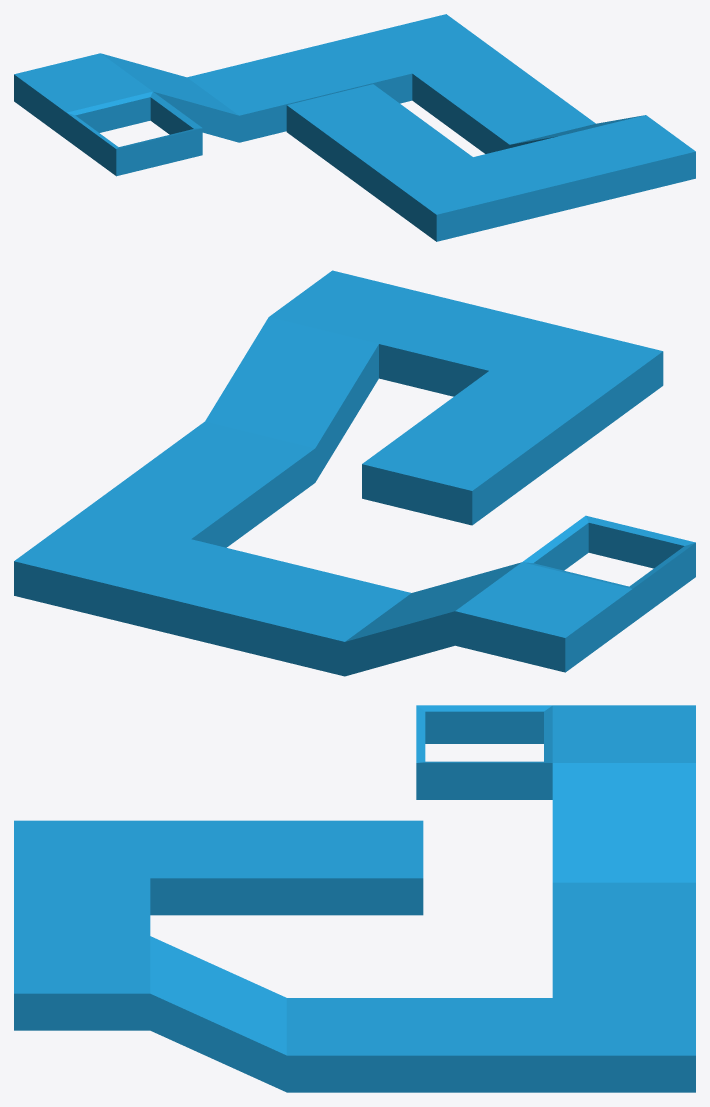
The model's file is model_map_05.fbx.
The picture shows the model from 3 angles, top to bottom: view 1: azimuth 30°, elevation 25°; view 2: azimuth 150°, elevation 25°; view 3: azimuth 270°, elevation 25°; orthographic projection. The views are drawn at different scales.
Visible parts, largest first — view 1: col, lvl; view 2: col, lvl; view 3: col, lvl.
Part boxes in pixels (box(x1,y1,x2,y2)): col: box(14, 14, 695, 214); lvl: box(14, 73, 695, 241); col: box(14, 270, 695, 641); lvl: box(14, 344, 695, 676); col: box(14, 705, 695, 1055); lvl: box(14, 711, 695, 1092).
Size of the model in its own units: 1000 by 160 by 1000.
